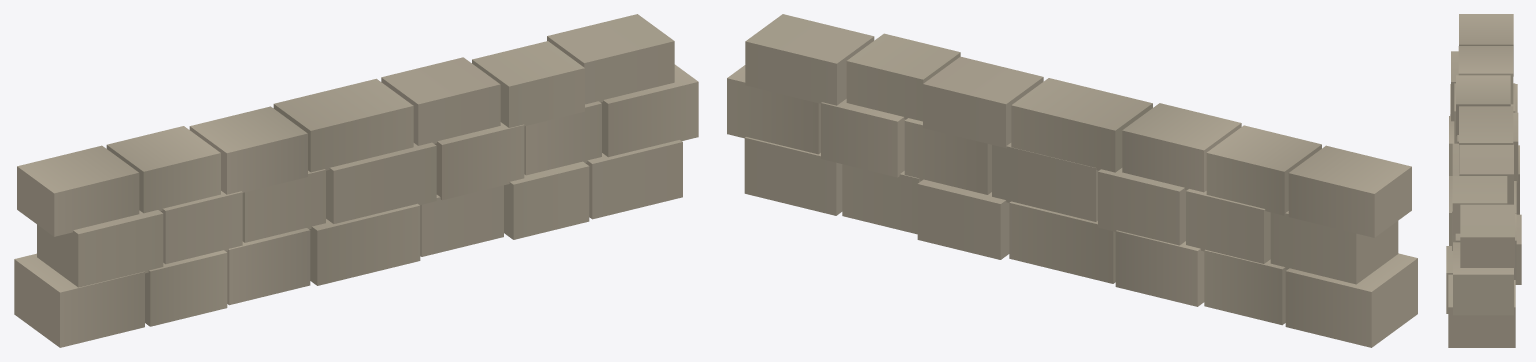
The model's file is wall_0.glb.
The picture shows the model from 3 angles, left to right: view 1: azimuth 30°, elevation 25°; view 2: azimuth 150°, elevation 25°; view 3: azimuth 270°, elevation 25°; orthographic projection. The views are drawn at different scales.
Visible parts, largest first — view 1: wall_0; view 2: wall_0; view 3: wall_0.
Boxes of the visible parts, left/top/right/bottom form: wall_0: left=14, top=14, right=698, bottom=347; wall_0: left=727, top=14, right=1417, bottom=347; wall_0: left=1446, top=14, right=1521, bottom=347.
Bounding box in the file's own units: 3.39 × 0.76 × 0.4702.
